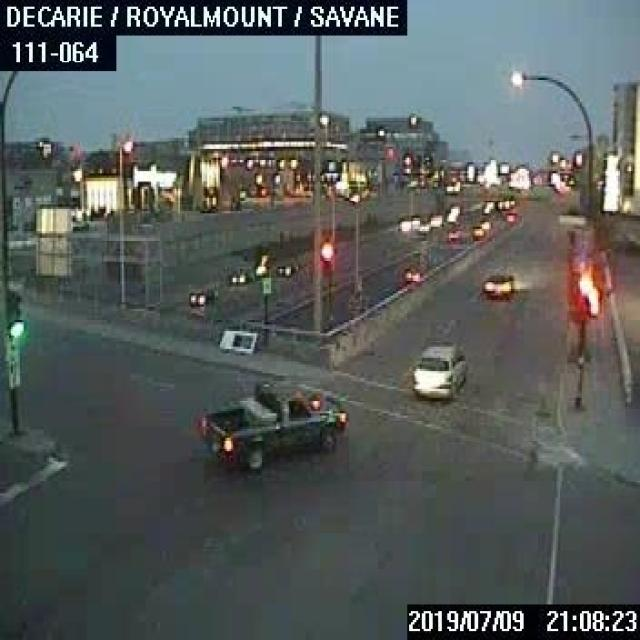vehicle: (199, 382, 351, 476), (411, 341, 466, 402), (479, 272, 518, 300), (187, 286, 214, 306), (229, 267, 253, 285), (401, 264, 422, 280), (274, 260, 294, 275), (446, 226, 465, 241), (470, 223, 482, 237), (478, 218, 490, 231), (505, 210, 517, 221)
